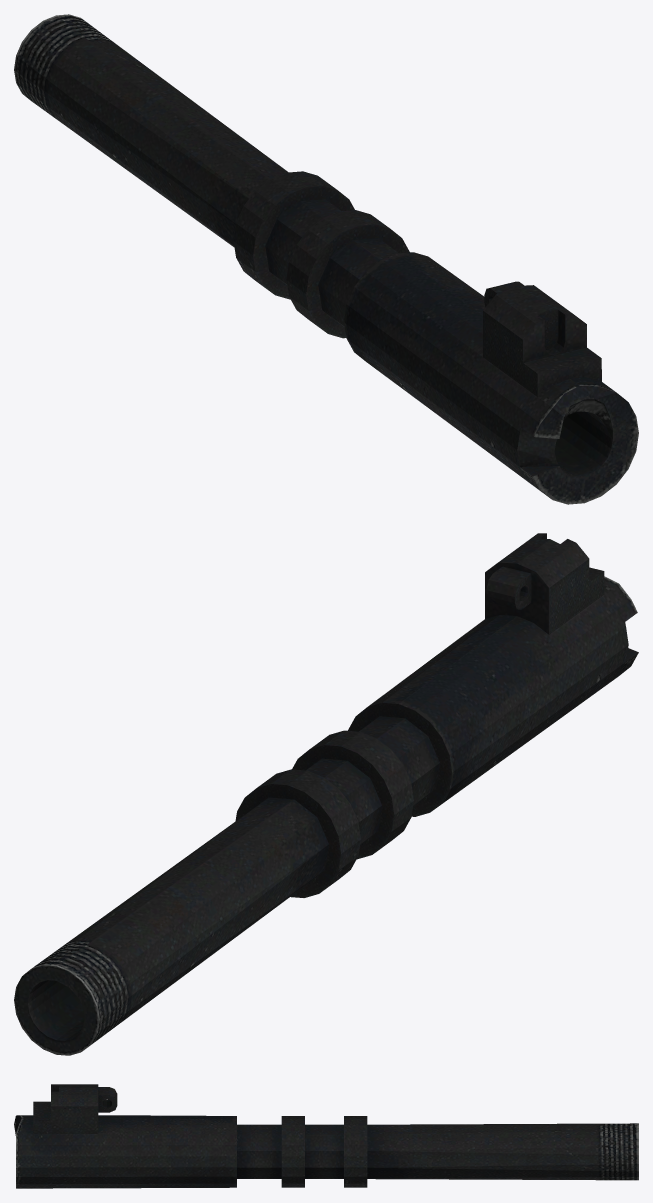
The picture shows the model from 3 angles, top to bottom: view 1: azimuth 30°, elevation 25°; view 2: azimuth 150°, elevation 25°; view 3: azimuth 270°, elevation 25°; orthographic projection. The views are drawn at different scales.
Visible parts, largest first — view 1: TW_571a279b24597720b4066566_PZ_Import; view 2: TW_571a279b24597720b4066566_PZ_Import; view 3: TW_571a279b24597720b4066566_PZ_Import.
Boxes of the visible parts, x1,y1,x2,y2 form: TW_571a279b24597720b4066566_PZ_Import: (14, 14, 638, 504); TW_571a279b24597720b4066566_PZ_Import: (14, 533, 638, 1055); TW_571a279b24597720b4066566_PZ_Import: (14, 1084, 638, 1188).
Size of the model in its own units: 0.00886 by 0.0748 by 0.0129.
Materials: 1 (1 with a texture image).
